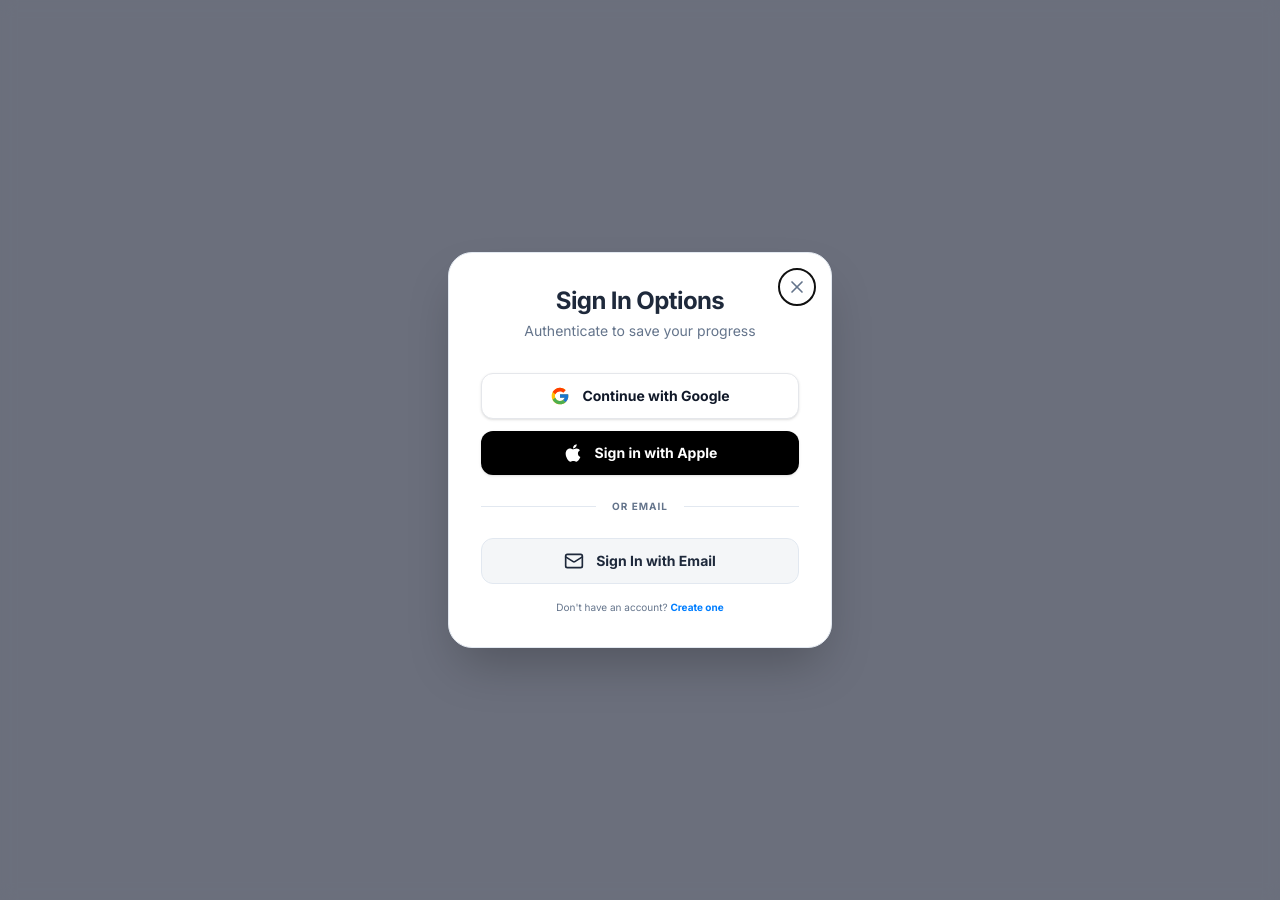
Test case: SignInModal › email sign-in view › navigates to email sign-in form on button click
Click the button "Sign In with Email". click: x=640, y=561
box: [481, 538, 799, 584]
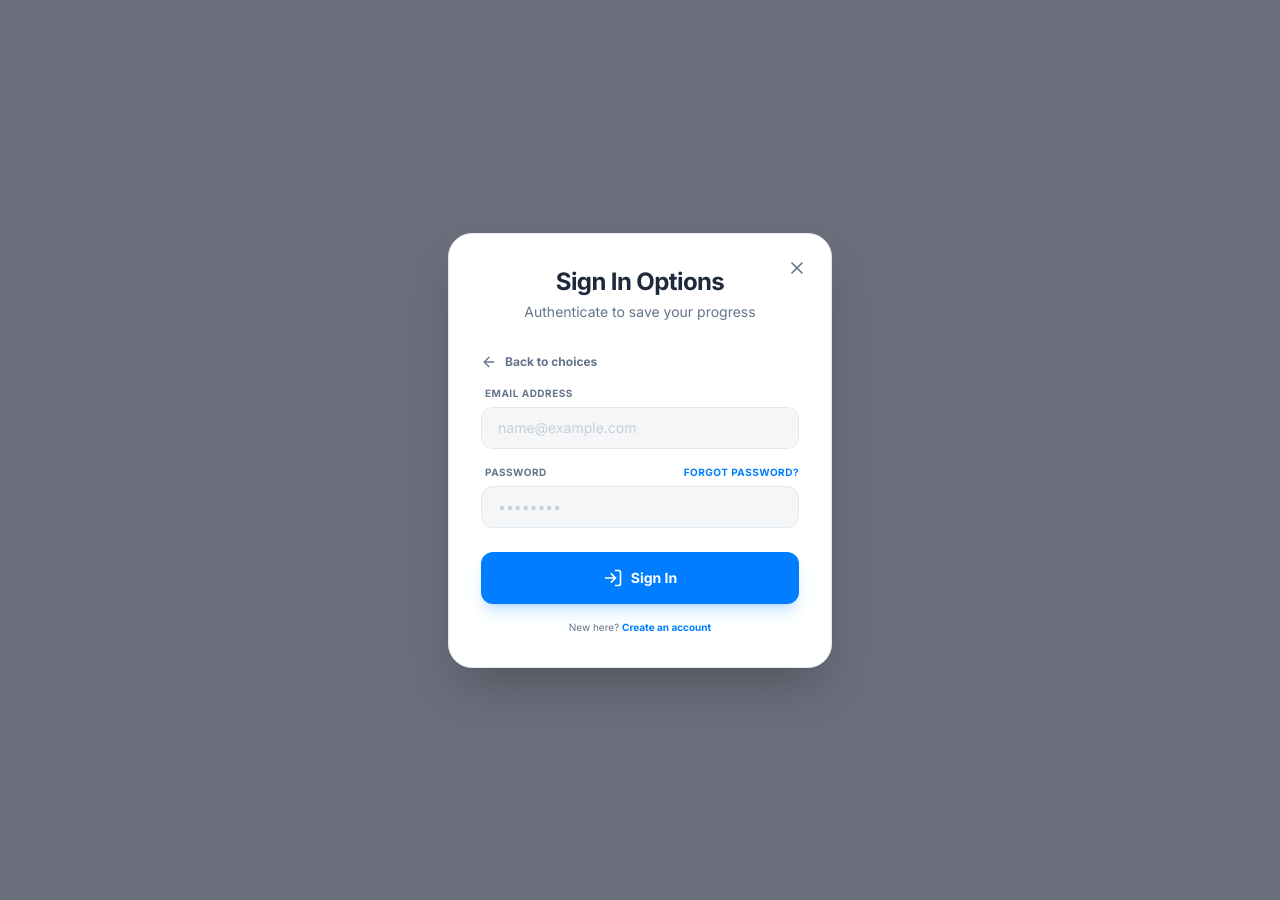
Now the field with placeholder "name@example.com" is shown, box [481, 406, 799, 448]
Now the password field with placeholder "••••••••" is shown, box [481, 486, 799, 528]
